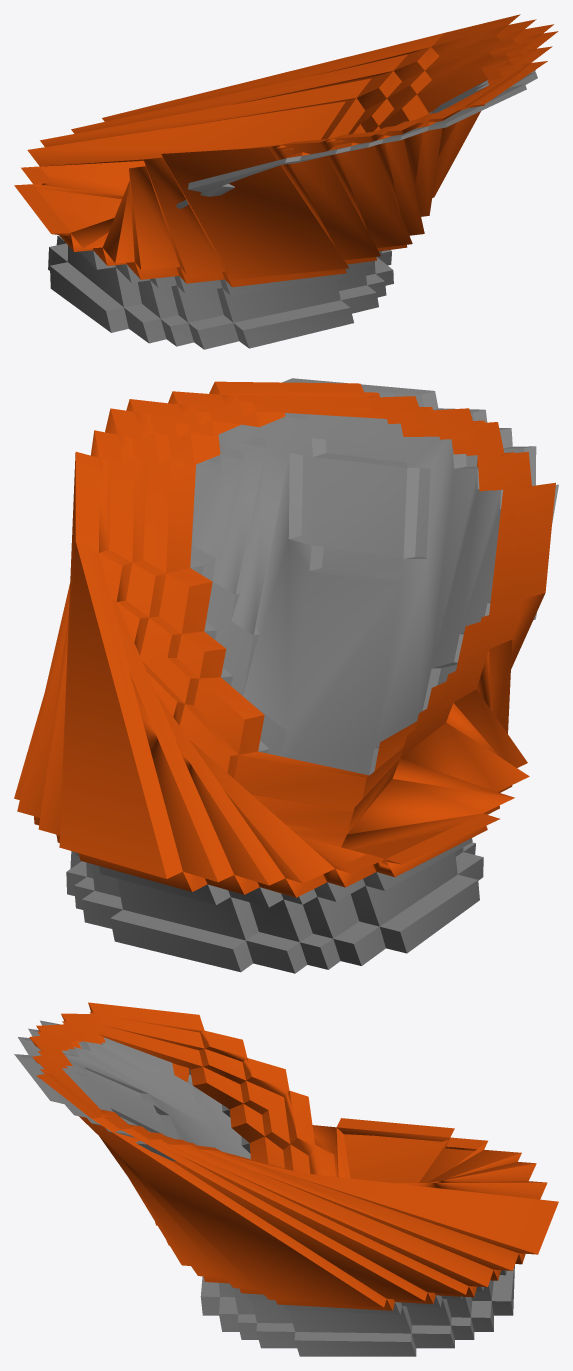
Rendered from tölkki3dsCrushed.fbx.
The picture shows the model from 3 angles, top to bottom: view 1: azimuth 30°, elevation 25°; view 2: azimuth 150°, elevation 25°; view 3: azimuth 270°, elevation 25°; orthographic projection. The views are drawn at different scales.
Parts seen in each view (by area): view 1: tölkkiOBJ; view 2: tölkkiOBJ; view 3: tölkkiOBJ.
Part boxes in pixels (x1,y1,x2,y2): tölkkiOBJ: (14,14,558,349); tölkkiOBJ: (14,378,558,973); tölkkiOBJ: (14,1002,558,1356).
Bounding box in the file's own units: 2.37 × 1.48 × 2.81.
